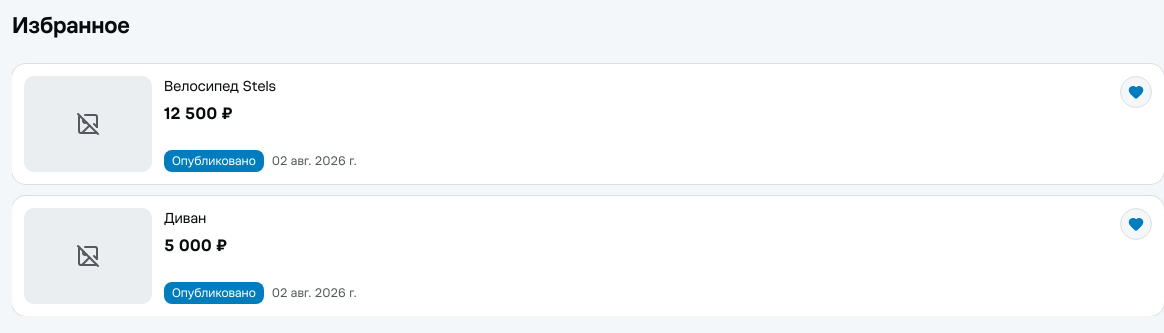
Test: FavoritesScreen › removes an item from favorites optimistically
Click the button named "Убрать из избранного" in the row of "Велосипед Stels". click: [1136, 92]
box: [1120, 76, 1152, 108]
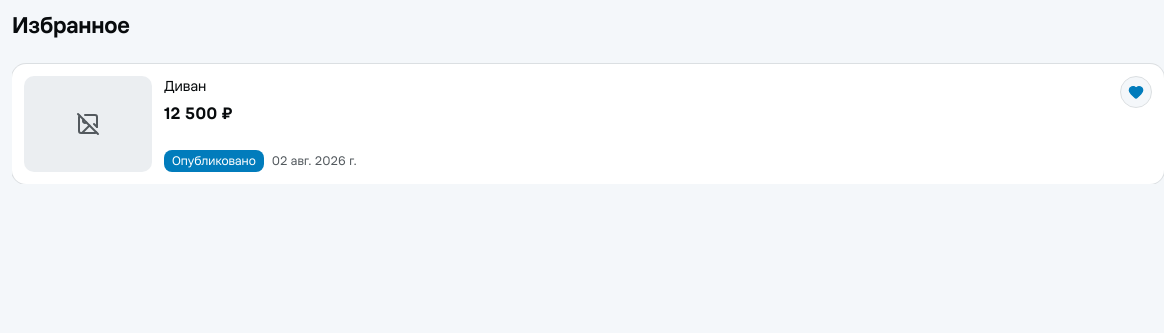
Check: the link "Велосипед Stels" is gone
